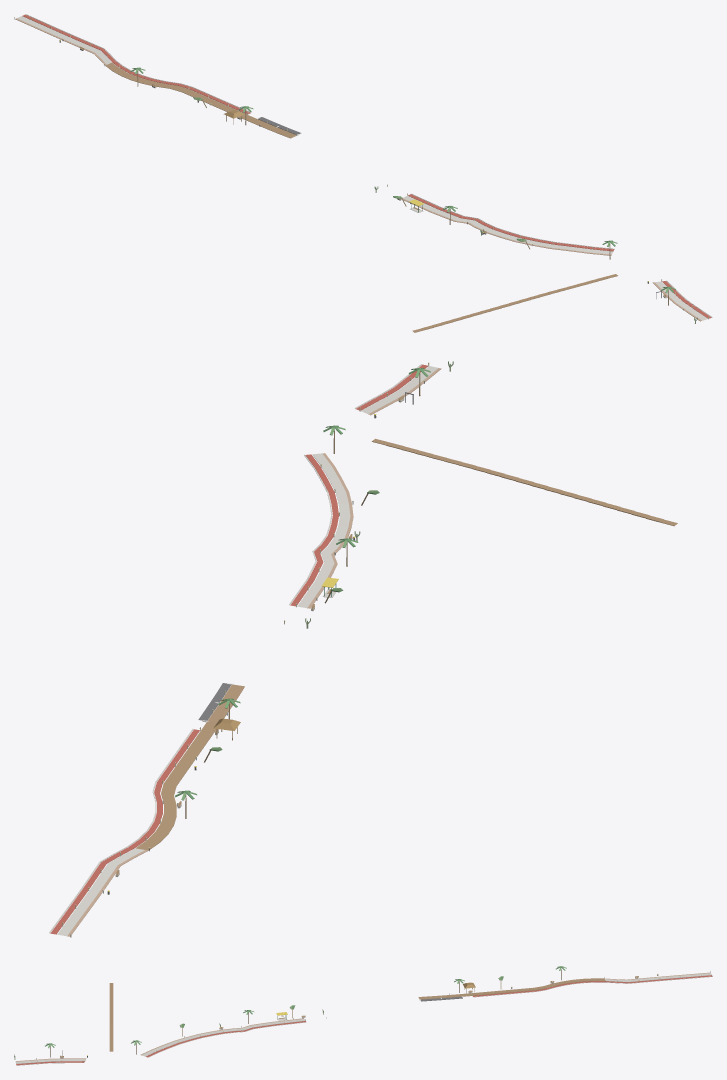
File: nw_mk_mid.glb
3 renders of one model, top to bottom at view 1: azimuth 30°, elevation 25°; view 2: azimuth 150°, elevation 25°; view 3: azimuth 270°, elevation 25°, orthographic. The views are drawn at different scales.
Parts seen in each view (by area): view 1: nw_mk_mid_lod0; view 2: nw_mk_mid_lod0; view 3: nw_mk_mid_lod0.
Part boxes in pixels (x1,y1,x2,y2): nw_mk_mid_lod0: [14, 14, 712, 332]; nw_mk_mid_lod0: [49, 361, 677, 937]; nw_mk_mid_lod0: [14, 966, 712, 1065].
Size of what is drawn, in the model's own units: 77.71 by 11.94 by 269.
